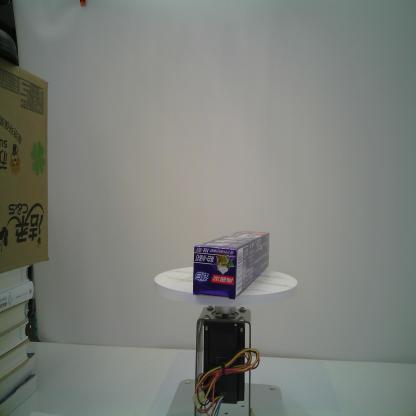Personal Hygiene: (192, 231, 270, 300)
